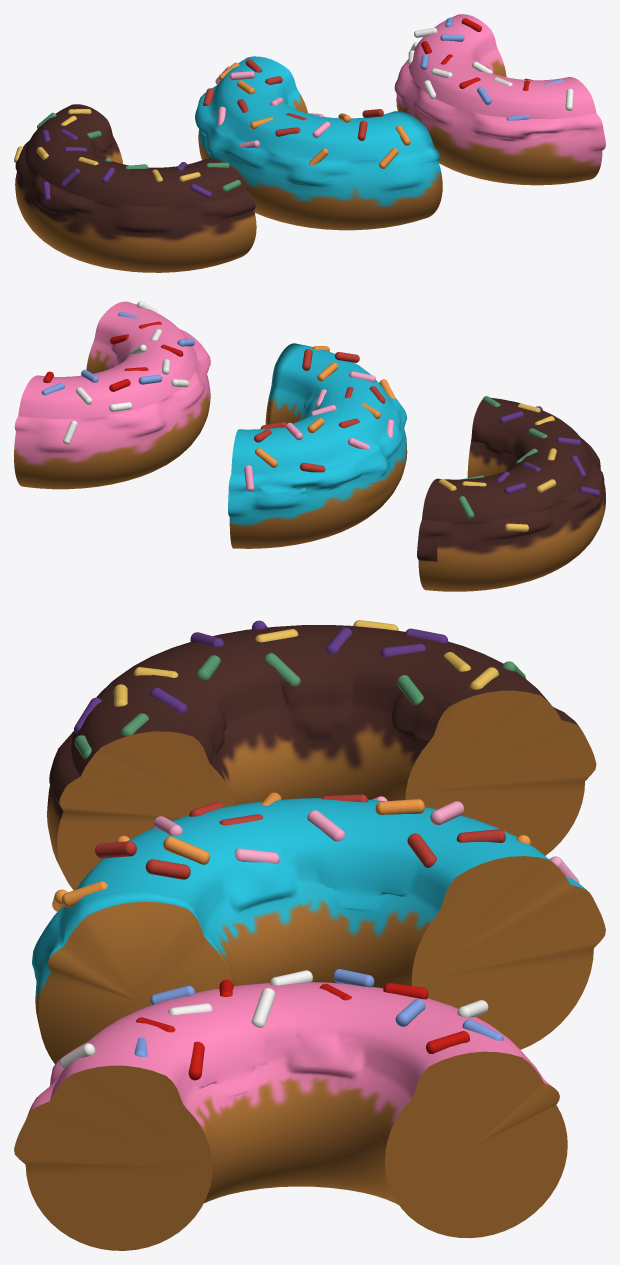
The model's file is donuts.fbx.
3 views of the same model, one above another, from view 1: azimuth 30°, elevation 25°; view 2: azimuth 150°, elevation 25°; view 3: azimuth 270°, elevation 25° (orthographic). The views are drawn at different scales.
Parts seen in each view (by area): view 1: pSphere45, pTorus2, pTorus1; view 2: pSphere45, pTorus2, pTorus1; view 3: pTorus1, pSphere45, pTorus2.
Boxes of the visible parts, bbox=[...] form: pSphere45: bbox=[195, 56, 442, 230]; pTorus2: bbox=[14, 104, 256, 272]; pTorus1: bbox=[394, 14, 605, 185]; pSphere45: bbox=[228, 343, 407, 548]; pTorus2: bbox=[417, 396, 605, 591]; pTorus1: bbox=[14, 301, 210, 489]; pTorus1: bbox=[14, 969, 567, 1250]; pSphere45: bbox=[32, 792, 605, 1063]; pTorus2: bbox=[47, 620, 596, 890].
Bounding box in the file's own units: 447 × 95.03 × 236.
Materials: 3 (3 with a texture image).
